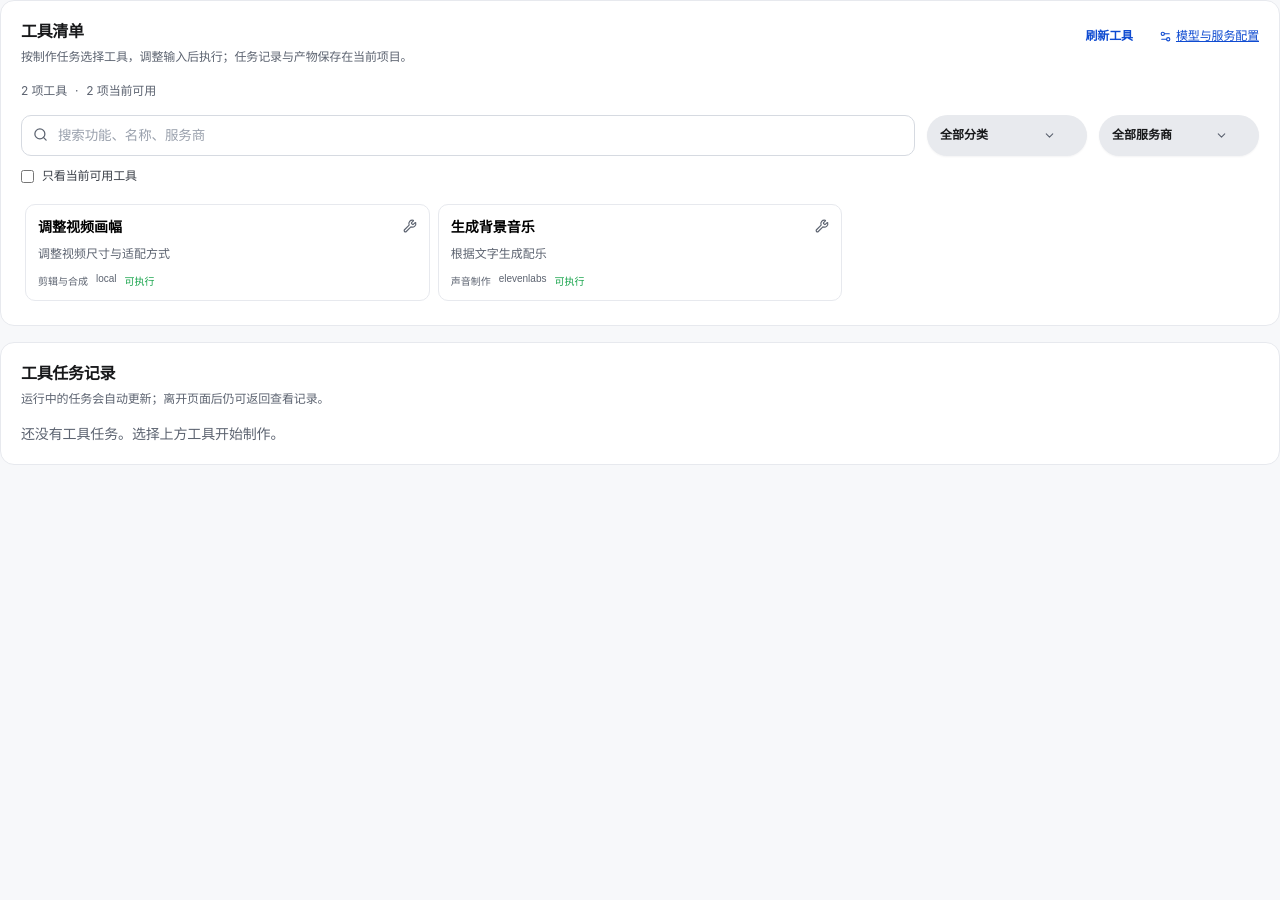
Test: blocks task execution for an unsaved project
The image size is (1280, 900).
Click the button "调整视频画幅 调整视频尺寸与适配方式 剪辑与合成 local 可执行" at (80, 227), box [25,204,430,301]
(page scrolled)
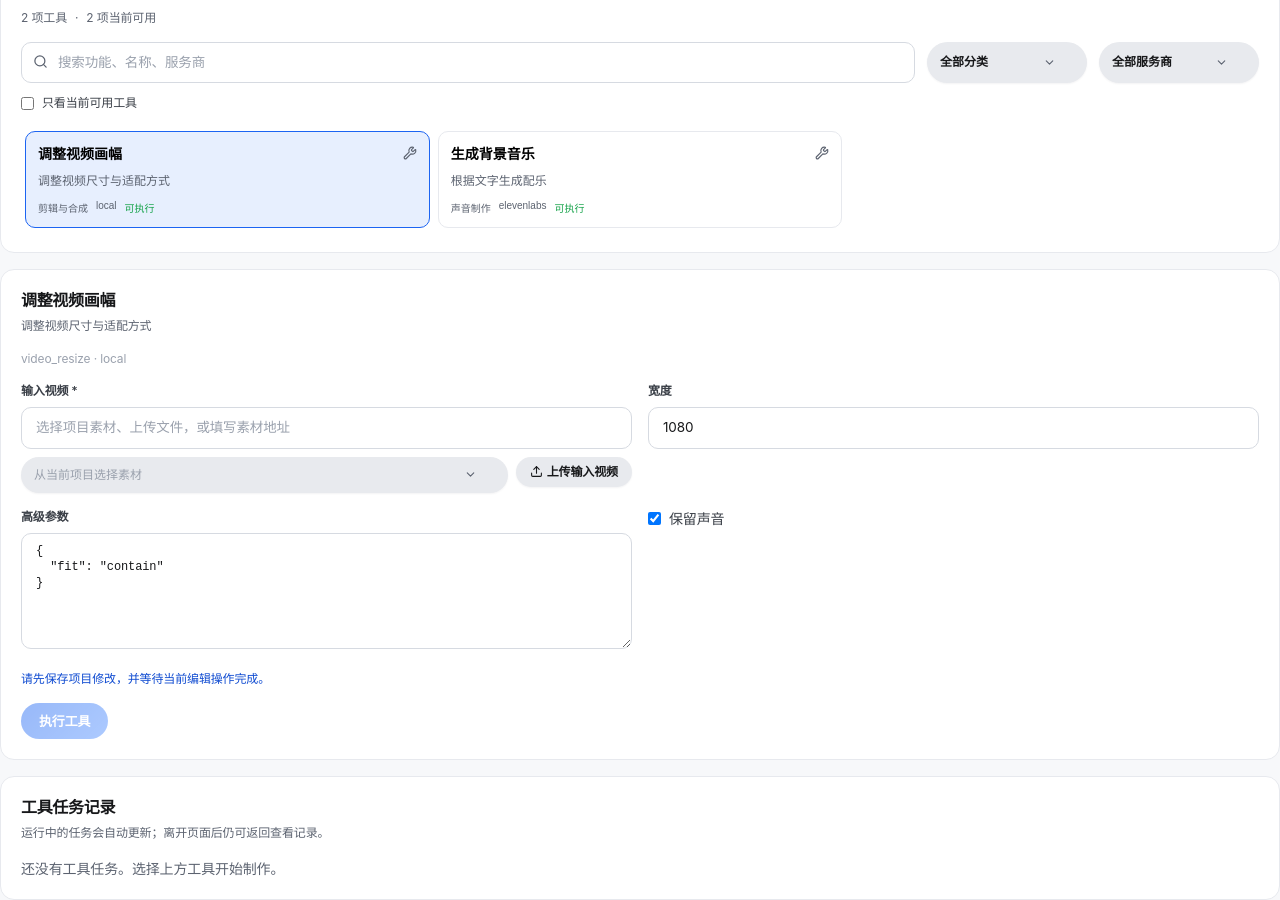
Now the button "执行工具" is disabled, box [21,703,108,739]
